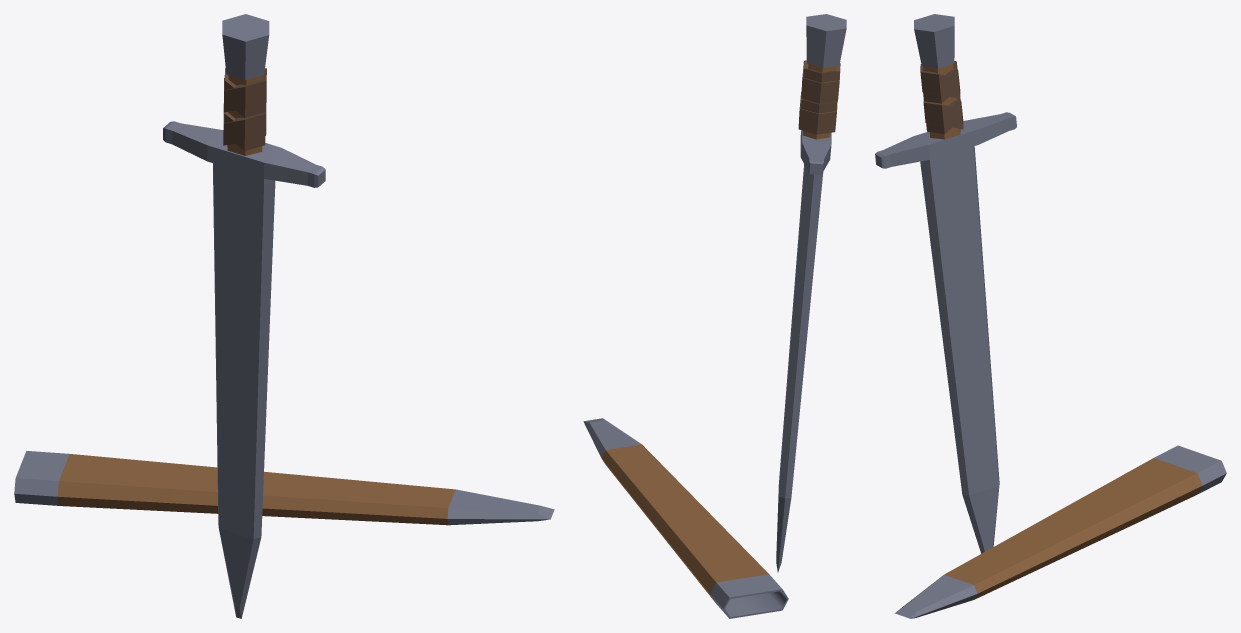
File: FinalSword1.fbx
3 renders of one model, left to right at view 1: azimuth 30°, elevation 25°; view 2: azimuth 150°, elevation 25°; view 3: azimuth 270°, elevation 25°, orthographic. The views are drawn at different scales.
Parts seen in each view (by area): view 1: Cylinder.004, Cylinder.001; view 2: Cylinder.001, Cylinder.004; view 3: Cylinder.004, Cylinder.001.
Boxes of the visible parts, x1,y1,x2,y2 form: Cylinder.004: (163,14,325,618); Cylinder.001: (14,450,554,525); Cylinder.001: (583,418,788,618); Cylinder.004: (776,14,846,572); Cylinder.004: (875,14,1016,553); Cylinder.001: (895,445,1226,618).
Size of the model in its own units: 84.74 by 129 by 76.56.
